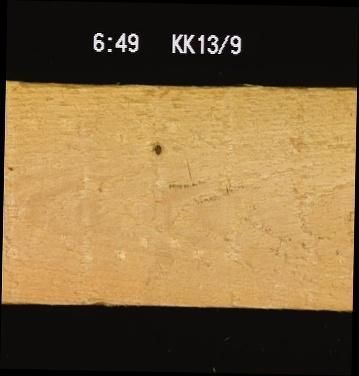dry_knot: (150, 140, 162, 157)
